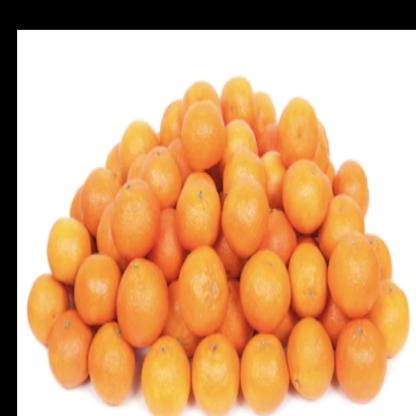fresh: (19, 71, 413, 416)
